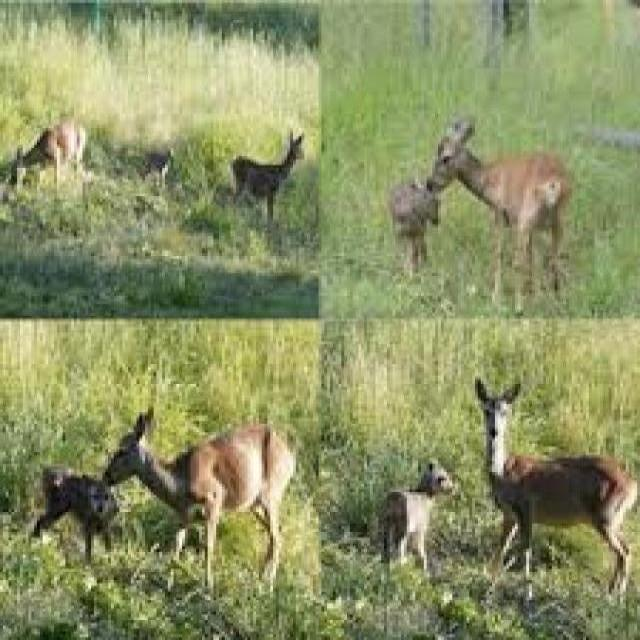deer: (98, 391, 304, 593), (469, 375, 640, 596), (438, 107, 582, 298), (32, 441, 138, 564), (372, 157, 458, 295), (372, 458, 468, 578), (0, 117, 104, 220), (226, 117, 313, 230)
